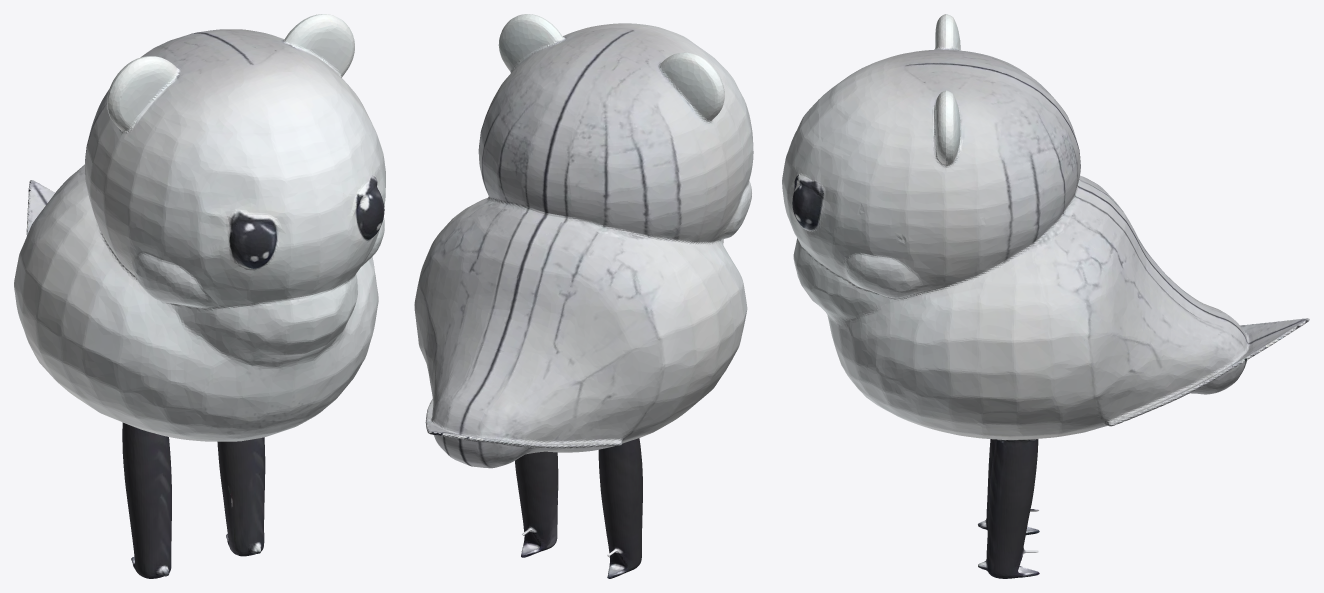
File: creature-077.glb
3 renders of one model, left to right at view 1: azimuth 30°, elevation 25°; view 2: azimuth 150°, elevation 25°; view 3: azimuth 270°, elevation 25°, orthographic. The views are drawn at different scales.
Parts seen in each view (by area): view 1: tmp568iui8u.ply; view 2: tmp568iui8u.ply; view 3: tmp568iui8u.ply.
Boxes of the visible parts, left/top/right/bottom form: tmp568iui8u.ply: left=14, top=14, right=385, bottom=578; tmp568iui8u.ply: left=414, top=14, right=753, bottom=578; tmp568iui8u.ply: left=782, top=14, right=1309, bottom=578.
Bounding box in the file's own units: 1.18 × 1.99 × 1.91.
Materials: 1 (1 with a texture image).
